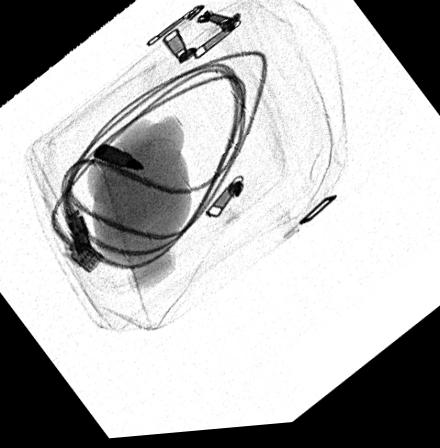Bullet: (92, 144, 145, 172)
